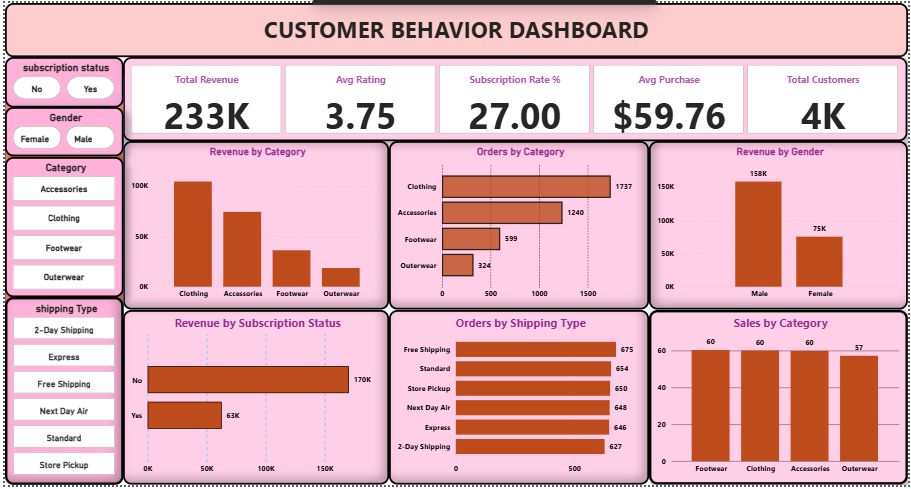

What the dashboard file says about the page in this screenshot:
{"tool":"powerbi","page":{"name":"Page 1","canvas":[1500,800],"ordinal":0},"visuals":[{"type":"cardVisual","fields":{"Data":["customerbehavior mytable.Total Revenue","customerbehavior mytable.Average of Review Rating","customerbehavior mytable.Subscription Rate %","customerbehavior mytable.Average of Purchase","customerbehavior mytable.Total Customers"]},"box":[196.7,90,1303.3,140],"z":0},{"type":"shape","box":[0,0,1500,90],"z":1000},{"type":"textbox","box":[0,13.3,1500,91.7],"z":2000},{"type":"clusteredColumnChart","title":"Revenue by Category","fields":{"Category":["customerbehavior mytable.category"],"Y":["customerbehavior mytable.Total Revenue"]},"box":[196.7,230,441.7,280],"z":3000},{"type":"barChart","title":"Orders by Category","fields":{"Category":["customerbehavior mytable.category"],"Y":["customerbehavior mytable.Orders Count"]},"box":[638.3,230,431.7,280],"z":4000},{"type":"clusteredColumnChart","title":"Revenue by Gender","fields":{"Category":["customerbehavior mytable.gender"],"Y":["customerbehavior mytable.Total Revenue"]},"box":[1070,230,430,280],"z":5000},{"type":"shape","box":[0,119,196.9,601],"z":6000},{"type":"advancedSlicerVisual","title":"subscription status","fields":{"Values":["customerbehavior mytable.subscription_status"]},"box":[0,89.6,196.9,83.8],"z":7000},{"type":"advancedSlicerVisual","title":"Gender","fields":{"Values":["customerbehavior mytable.gender"]},"box":[0,173.4,196.9,82.3],"z":8000},{"type":"advancedSlicerVisual","title":"Category","fields":{"Values":["customerbehavior mytable.category"]},"box":[0,255,196.7,233.3],"z":9000},{"type":"advancedSlicerVisual","title":"shipping Type","fields":{"Values":["customerbehavior mytable.shipping_type"]},"box":[0,488.3,196.7,311.7],"z":10000},{"type":"clusteredBarChart","title":"Revenue by Subscription Status","fields":{"Category":["customerbehavior mytable.subscription_status"],"Y":["customerbehavior mytable.Total Revenue"]},"box":[196.7,510,441.7,290],"z":11000},{"type":"columnChart","title":"Sales by Category","fields":{"Category":["customerbehavior mytable.category"],"Y":["customerbehavior mytable.Average of Purchase"]},"box":[1070,510,430,290],"z":12000},{"type":"barChart","title":"Orders by Shipping Type","fields":{"Category":["customerbehavior mytable.shipping_type"],"Y":["customerbehavior mytable.Orders Count"]},"box":[638.3,510,431.7,290],"z":13000}]}

Visuals, with their boxes in screenshot pixels (x1, y1, x2, y2), scaled from the page's 1500x800 canvas onto the 911x489 screenshot:
cardVisual - customerbehavior mytable.Total Revenue x customerbehavior mytable.Average of Review Rating: <bbox>119, 55, 910, 141</bbox>
shape: <bbox>0, 0, 910, 55</bbox>
textbox: <bbox>0, 8, 910, 64</bbox>
"Revenue by Category" clusteredColumnChart: <bbox>119, 141, 388, 312</bbox>
"Orders by Category" barChart: <bbox>388, 141, 650, 312</bbox>
"Revenue by Gender" clusteredColumnChart: <bbox>650, 141, 910, 312</bbox>
shape: <bbox>0, 73, 120, 440</bbox>
"subscription status" advancedSlicerVisual: <bbox>0, 55, 120, 106</bbox>
"Gender" advancedSlicerVisual: <bbox>0, 106, 120, 156</bbox>
"Category" advancedSlicerVisual: <bbox>0, 156, 119, 298</bbox>
"shipping Type" advancedSlicerVisual: <bbox>0, 298, 119, 488</bbox>
"Revenue by Subscription Status" clusteredBarChart: <bbox>119, 312, 388, 488</bbox>
"Sales by Category" columnChart: <bbox>650, 312, 910, 488</bbox>
"Orders by Shipping Type" barChart: <bbox>388, 312, 650, 488</bbox>
